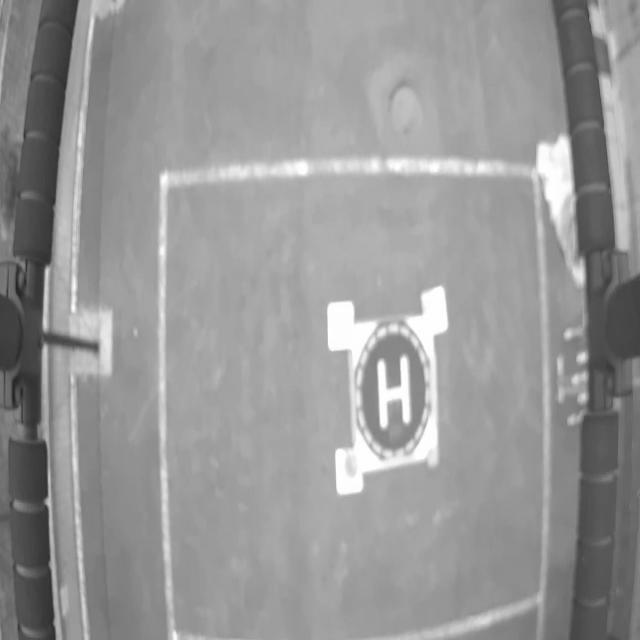Helipad: (376, 354, 412, 429)
